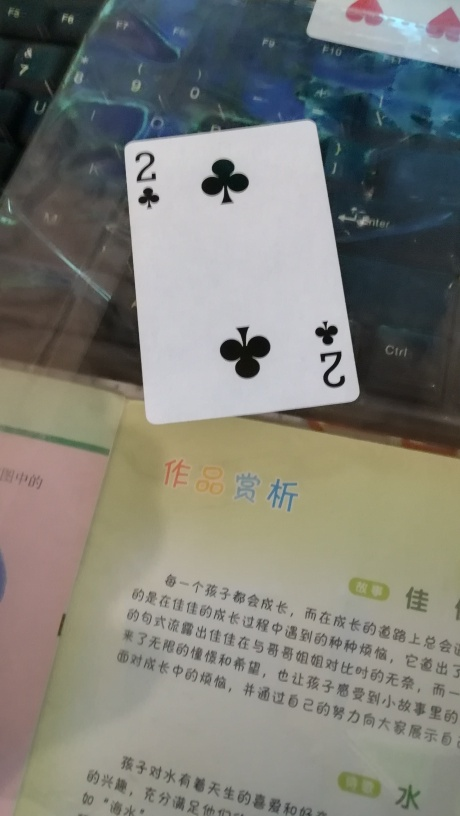mh 2: (123, 114, 365, 424)
